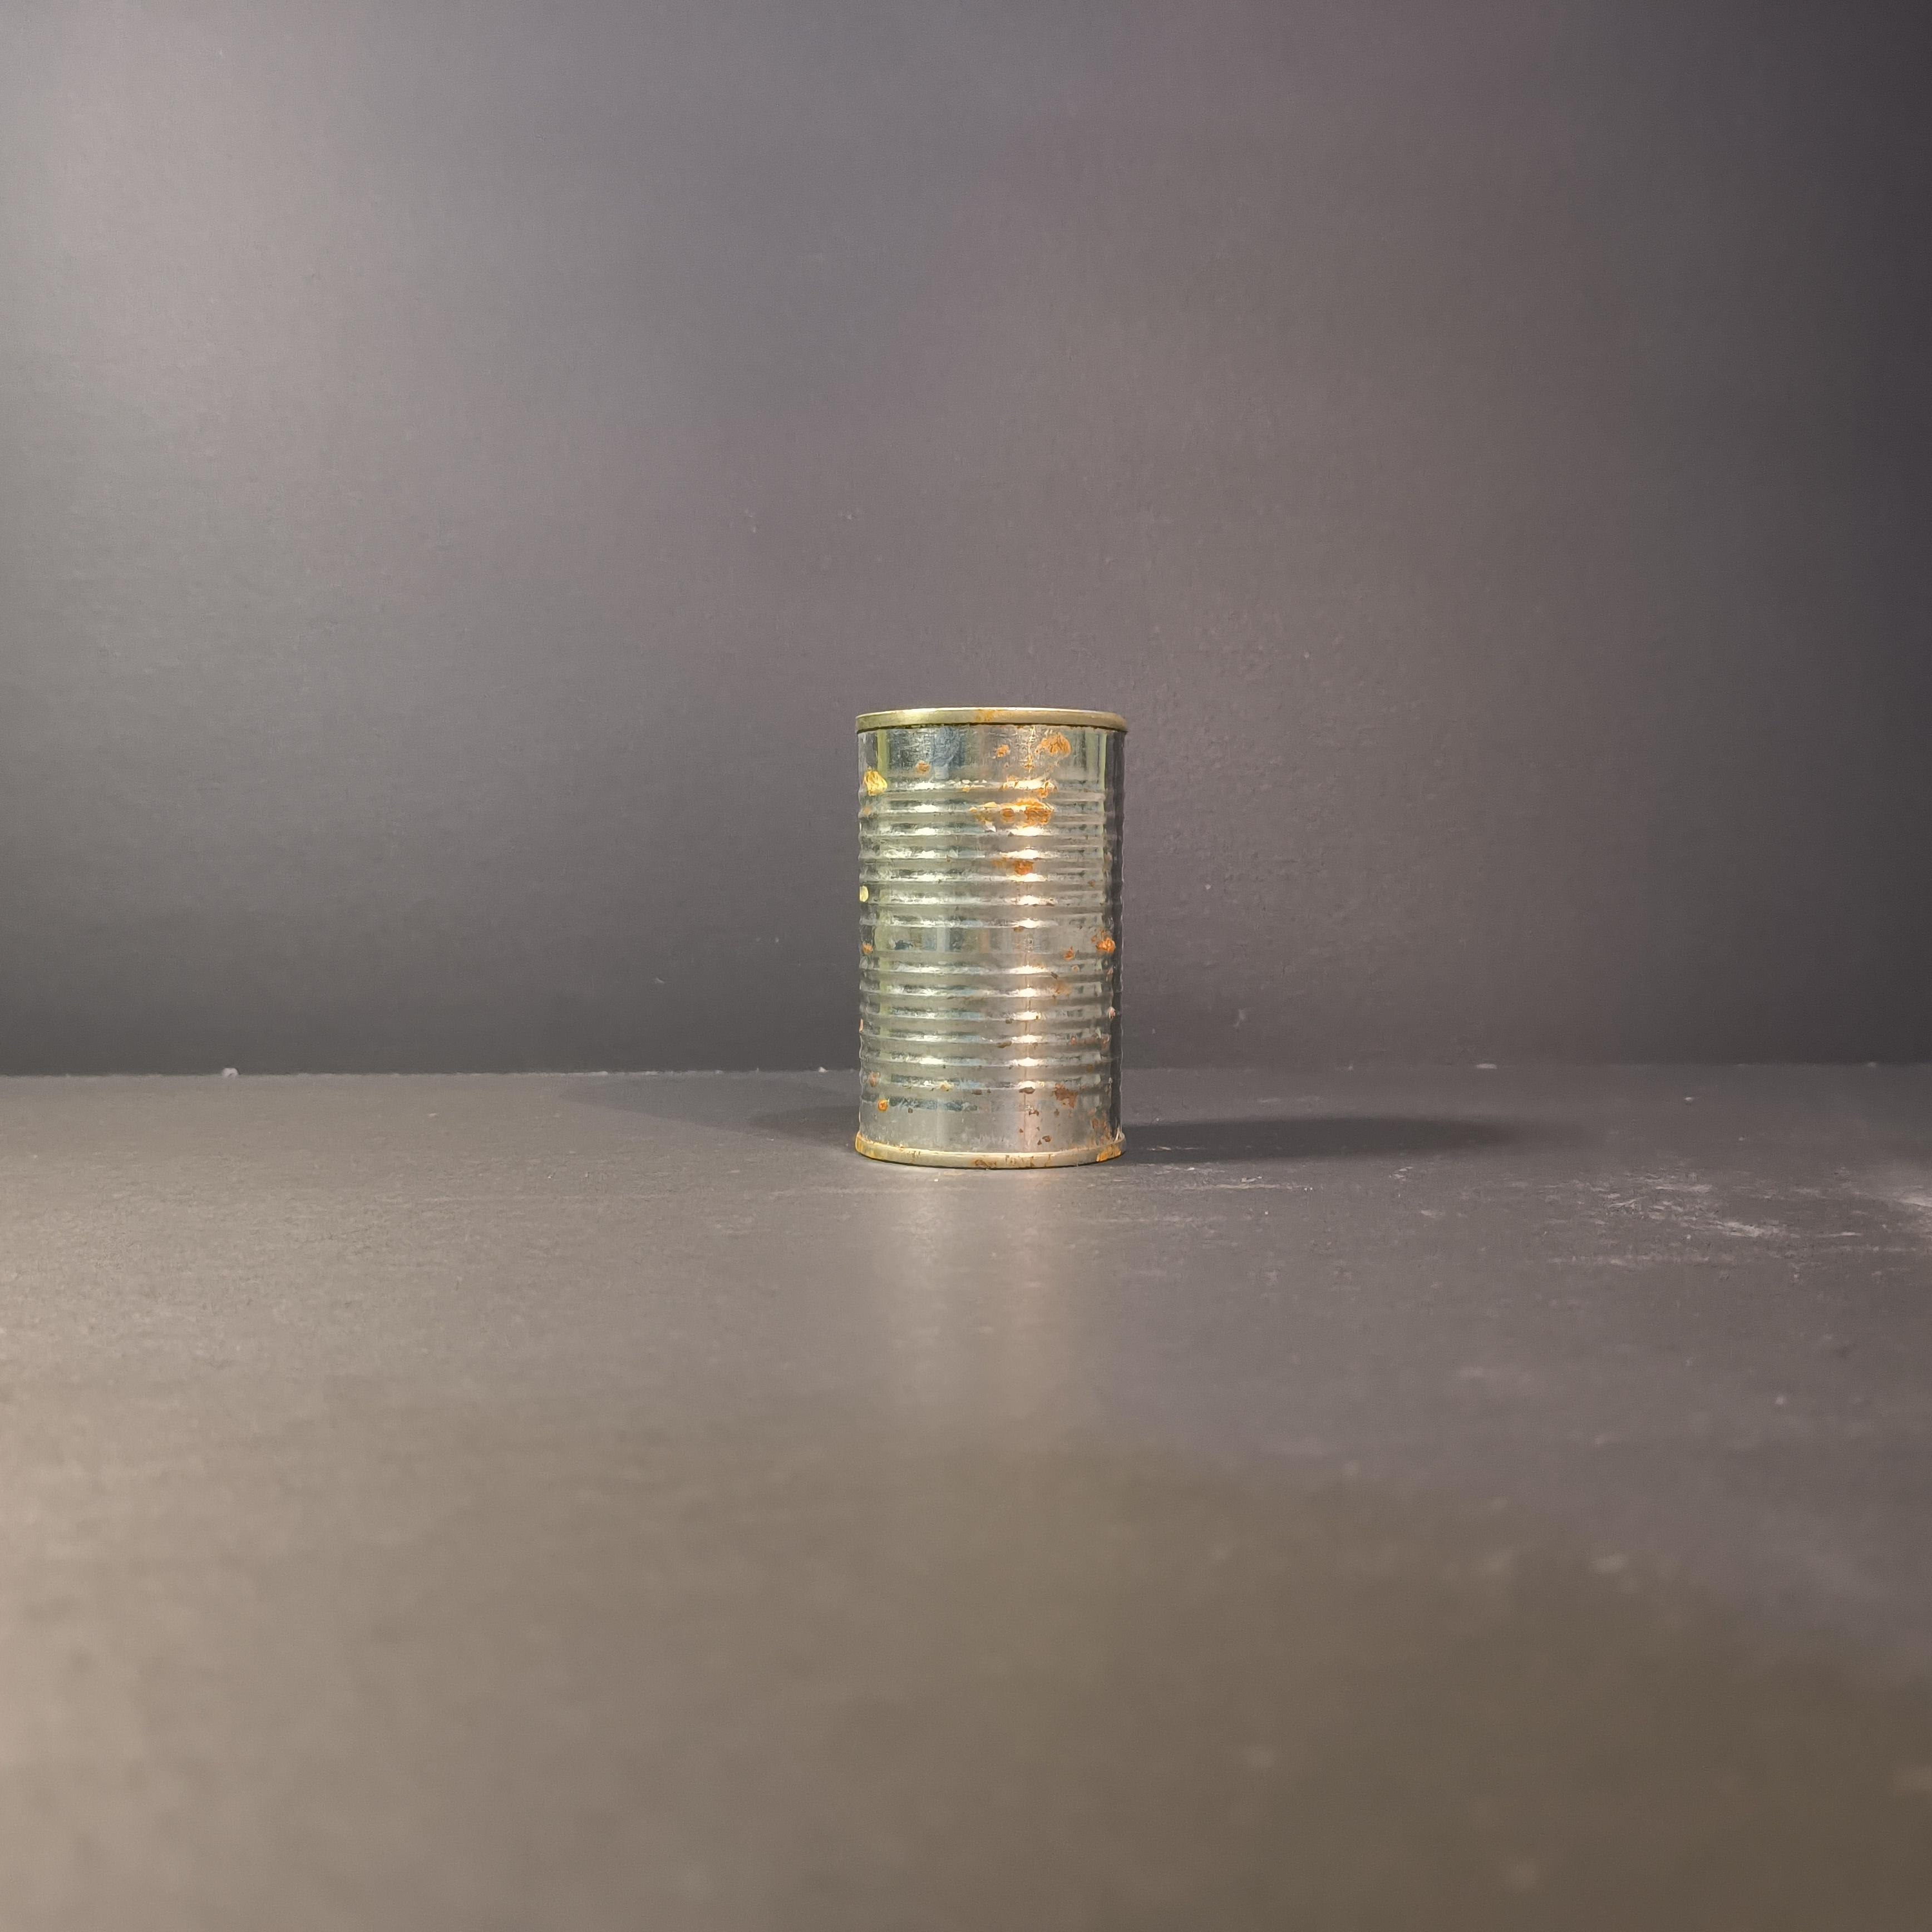Rusted: (851, 690, 1152, 1185)
